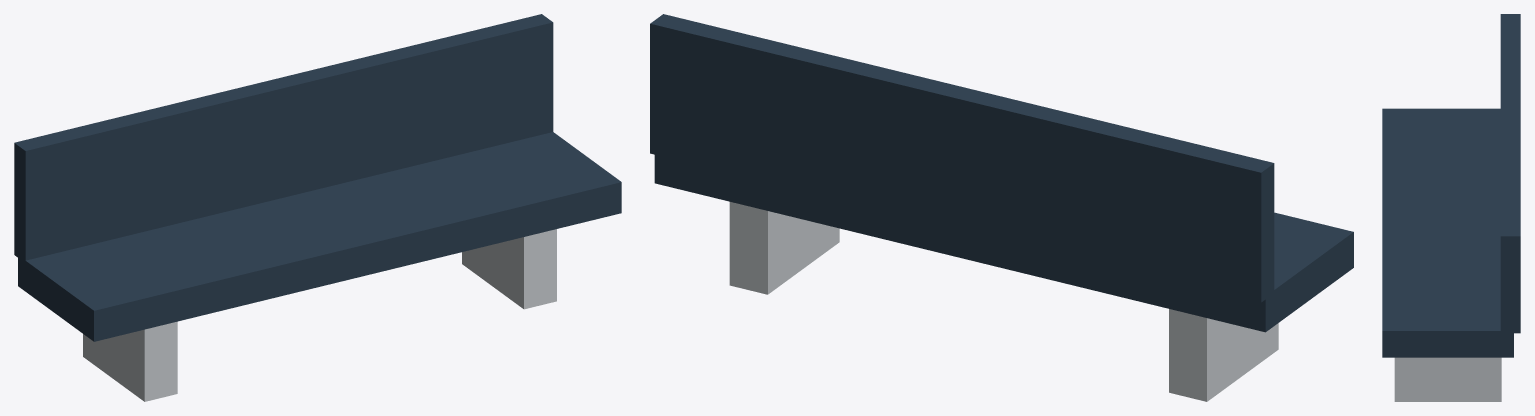
File: banco_externo.glb
3 renders of one model, left to right at view 1: azimuth 30°, elevation 25°; view 2: azimuth 150°, elevation 25°; view 3: azimuth 270°, elevation 25°, orthographic. The views are drawn at different scales.
Visible parts, largest first — view 1: _MeshInstance3D_553, Banco, _MeshInstance3D_554, _MeshInstance3D_555; view 2: _MeshInstance3D_553, Banco, _MeshInstance3D_554, _MeshInstance3D_555; view 3: Banco, _MeshInstance3D_553, _MeshInstance3D_555.
Part boxes in pixels (x1,y1,x2,y2): _MeshInstance3D_553: (14, 14, 553, 262); Banco: (18, 132, 621, 341); _MeshInstance3D_554: (83, 321, 177, 401); _MeshInstance3D_555: (462, 229, 556, 309); _MeshInstance3D_553: (650, 14, 1274, 302); Banco: (654, 155, 1353, 332); _MeshInstance3D_554: (1169, 309, 1278, 401); _MeshInstance3D_555: (729, 202, 839, 294); Banco: (1382, 108, 1513, 357); _MeshInstance3D_553: (1500, 14, 1520, 333); _MeshInstance3D_555: (1394, 357, 1501, 401).
Size of the model in its own units: 3.2 by 1.27 by 0.84.
